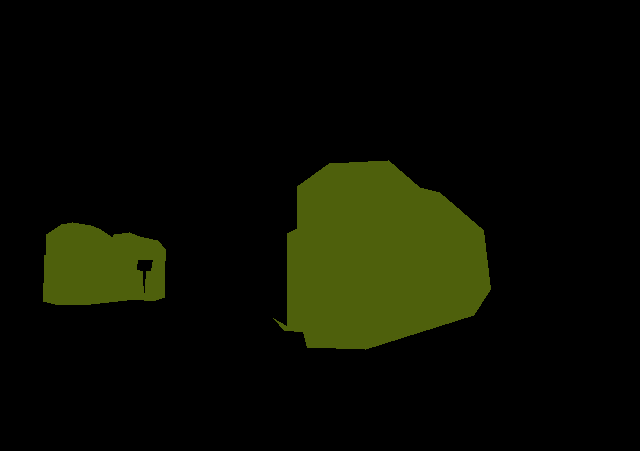Train: (273, 160, 490, 350), (43, 222, 165, 304)
